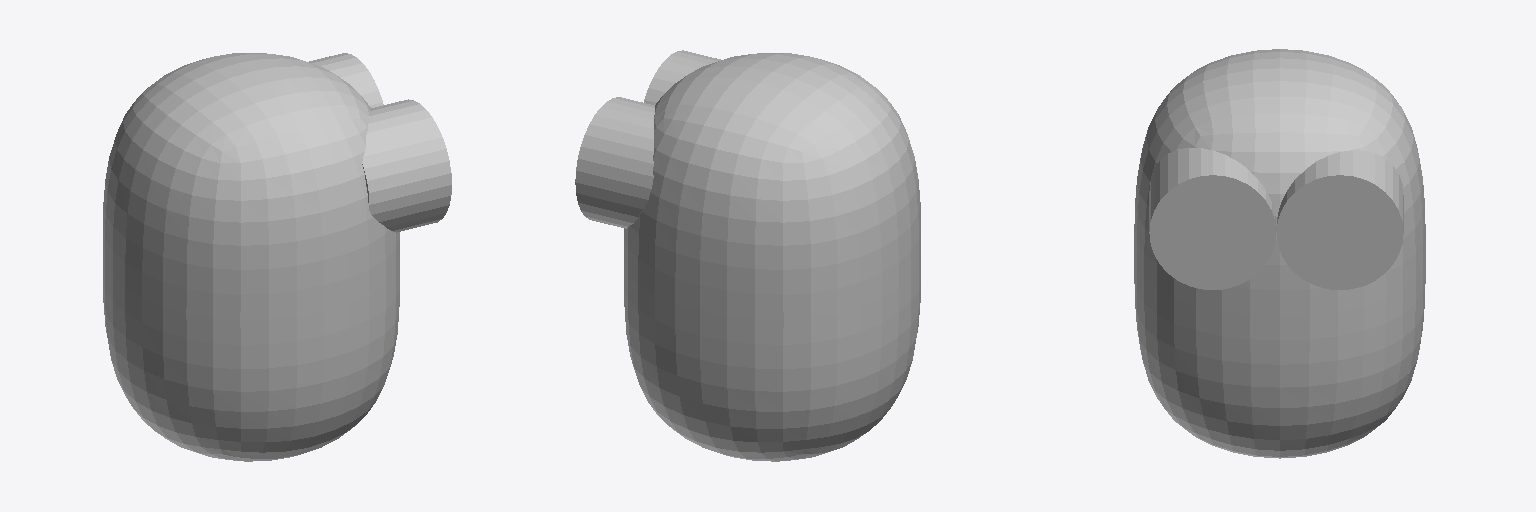
File: body1.obj
3 views of the same model, side by side, from view 1: azimuth 30°, elevation 25°; view 2: azimuth 150°, elevation 25°; view 3: azimuth 270°, elevation 25° (orthographic).
Visible parts, largest first — view 1: Cube, Cylinder_Cylinder.001, Cylinder.001; view 2: Cube, Cylinder.001, Cylinder_Cylinder.001; view 3: Cube, Cylinder_Cylinder.001, Cylinder.001.
Part boxes in pixels (x1,y1,x2,y2): Cube: (103,53,399,461); Cylinder_Cylinder.001: (362,99,451,232); Cylinder.001: (309,53,383,107); Cube: (624,53,920,461); Cylinder.001: (575,97,654,228); Cylinder_Cylinder.001: (644,50,720,104); Cube: (1134,49,1425,458); Cylinder_Cylinder.001: (1149,147,1276,289); Cylinder.001: (1277,150,1403,289).
Size of the model in its own units: 0.95 by 1.29 by 0.9167.